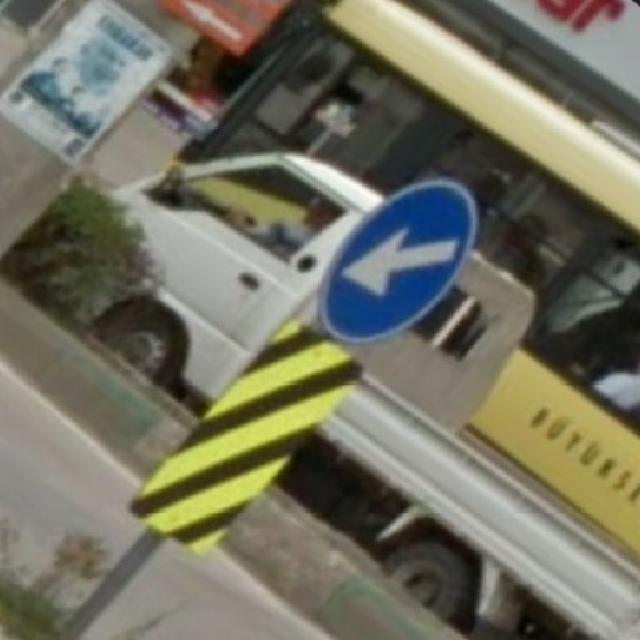Turn Left: (324, 180, 475, 345)
